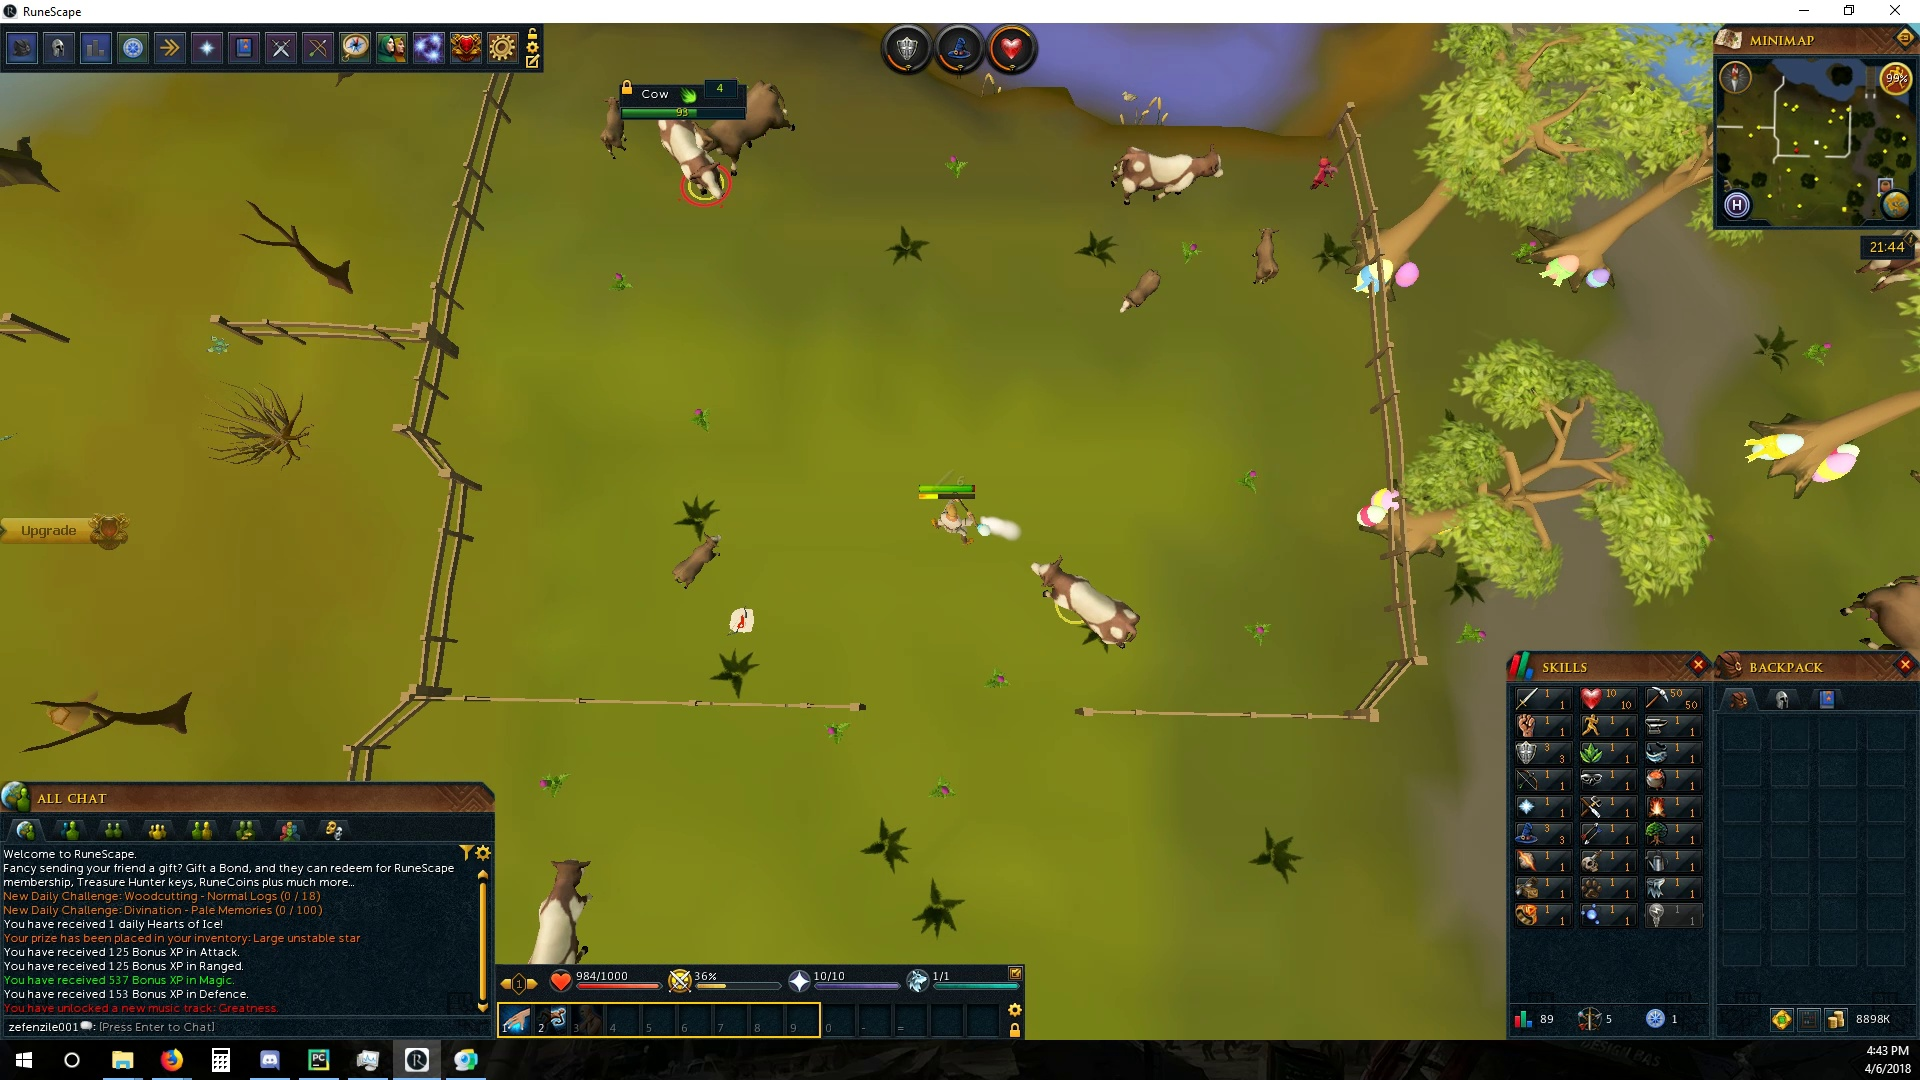calf: (669, 531, 724, 592), (1110, 268, 1163, 318), (600, 94, 632, 161), (1249, 224, 1280, 289)
cow: (1029, 553, 1142, 651), (694, 80, 796, 175), (1106, 138, 1232, 211), (522, 849, 596, 964), (650, 119, 729, 202)
cow_drop: (729, 603, 760, 633)
